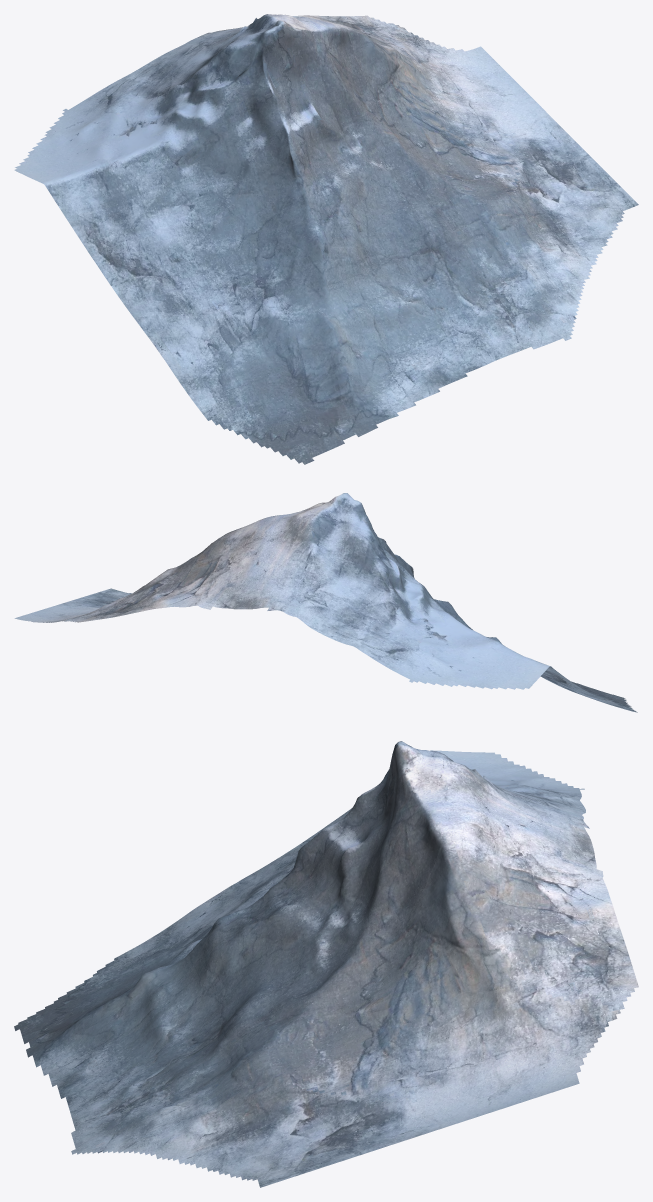
The model's file is Snow_Mountain_近景_0309.glb.
3 renders of one model, top to bottom at view 1: azimuth 30°, elevation 25°; view 2: azimuth 150°, elevation 25°; view 3: azimuth 270°, elevation 25°, orthographic. The views are drawn at different scales.
Parts seen in each view (by area): view 1: Landscape.002; view 2: Landscape.002; view 3: Landscape.002.
Part boxes in pixels (x1,y1,x2,y2): Landscape.002: (14, 14, 638, 464); Landscape.002: (14, 493, 637, 712); Landscape.002: (14, 741, 638, 1187).
Size of the model in its own units: 1.18 by 0.6276 by 0.9771.
1 material, 1 textured.
